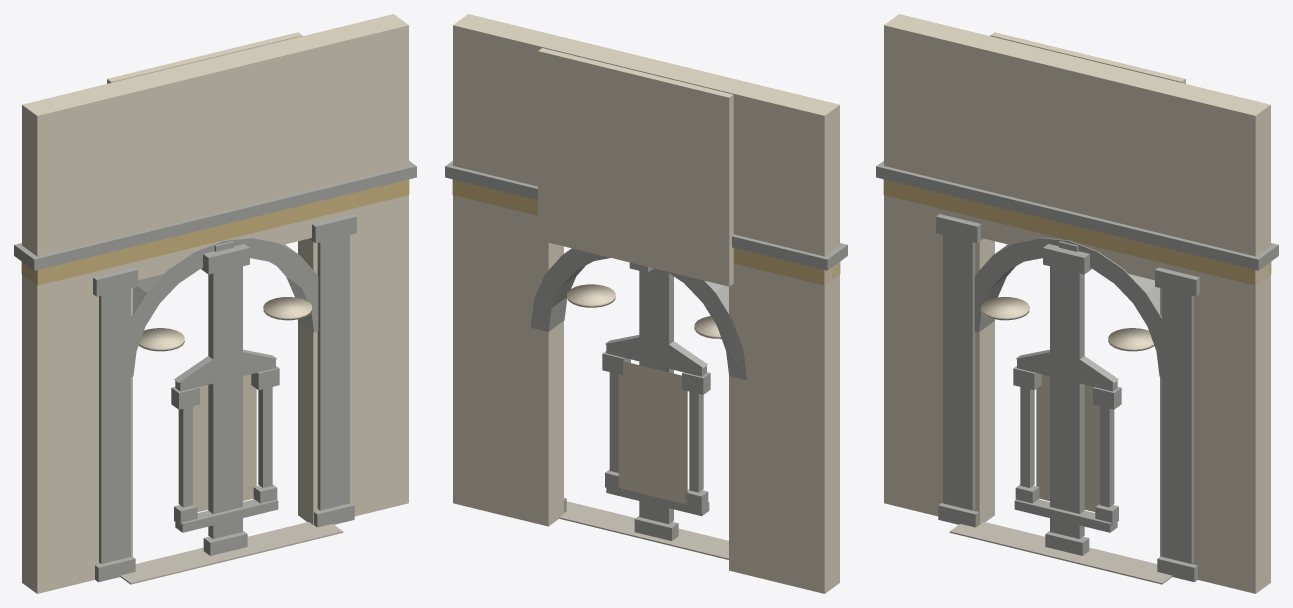
File: renaissance.glb
3 views of the same model, side by side, from view 1: azimuth 30°, elevation 25°; view 2: azimuth 150°, elevation 25°; view 3: azimuth 330°, elevation 25° (orthographic).
Visible parts, largest first — view 1: Plaster_field, Plaster_shoulderL, Plaster_shoulderR, Pietra_shaft.001, Pietra_shaft.002, Pietra_shaft, Gold_frieze, Pietra_cornice, Pietra_arch, Marble_threshold, Fresco_aedPanel, Plaster_tympfill (+15 smaller); view 2: Plaster_shoulderL, Plaster_backHdr, Plaster_shoulderR, Plaster_field, Fresco_aedPanel, Pietra_arch, Pietra_shaft.002, Gold_frieze, Pietra_cornice, Marble_threshold, Pietra_shaft.003, Pietra_aedPed (+6 smaller); view 3: Plaster_field, Plaster_shoulderR, Plaster_shoulderL, Pietra_shaft, Pietra_shaft.001, Pietra_shaft.002, Gold_frieze, Pietra_cornice, Pietra_arch, Marble_threshold, Fresco_aedPanel, Plaster_tympfill (+15 smaller).
Part boxes in pixels (x1,y1,x2,y2): Plaster_field: [22, 14, 408, 256]; Plaster_shoulderL: [22, 82, 132, 593]; Plaster_shoulderR: [298, 14, 408, 524]; Pietra_shaft.001: [317, 235, 349, 510]; Pietra_shaft.002: [208, 266, 242, 538]; Pietra_shaft: [99, 288, 130, 563]; Gold_frieze: [21, 179, 409, 285]; Pietra_cornice: [14, 161, 416, 270]; Pietra_arch: [131, 237, 318, 376]; Marble_threshold: [120, 522, 343, 584]; Fresco_aedPanel: [193, 374, 256, 511]; Plaster_tympfill: [133, 218, 313, 280]; Plaster_shoulderL: [729, 82, 839, 593]; Plaster_backHdr: [538, 48, 733, 286]; Plaster_shoulderR: [453, 14, 563, 526]; Plaster_field: [453, 14, 839, 256]; Fresco_aedPanel: [618, 361, 687, 504]; Pietra_arch: [530, 248, 746, 380]; Pietra_shaft.002: [639, 268, 673, 524]; Gold_frieze: [452, 179, 840, 285]; Pietra_cornice: [445, 161, 847, 270]; Marble_threshold: [559, 501, 728, 559]; Pietra_shaft.003: [689, 391, 703, 492]; Pietra_aedPed: [605, 334, 708, 367]; Plaster_field: [884, 14, 1270, 256]; Plaster_shoulderR: [1160, 81, 1270, 593]; Plaster_shoulderL: [884, 14, 994, 524]; Pietra_shaft: [943, 235, 975, 510]; Pietra_shaft.001: [1162, 288, 1193, 563]; Pietra_shaft.002: [1050, 266, 1084, 538]; Gold_frieze: [883, 179, 1271, 285]; Pietra_cornice: [876, 161, 1278, 270]; Pietra_arch: [974, 237, 1161, 376]; Marble_threshold: [949, 522, 1172, 584]; Fresco_aedPanel: [1036, 374, 1099, 511]; Plaster_tympfill: [979, 218, 1159, 280].
Bounding box in the file's own units: 7.2 × 8.6 × 1.12.
